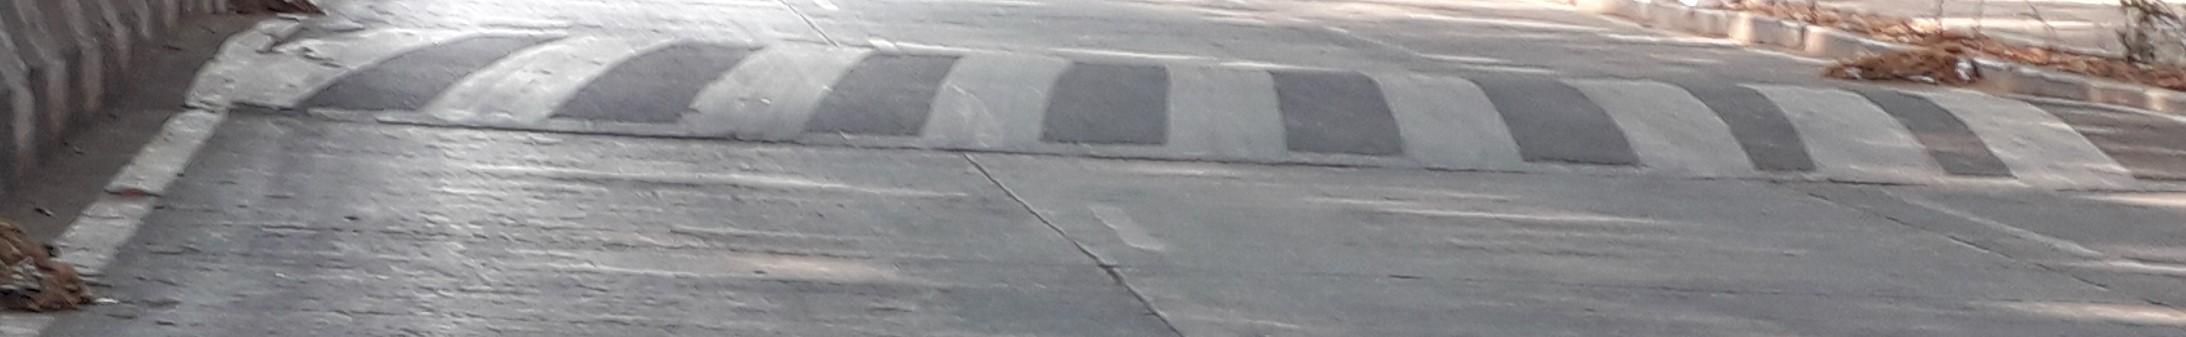speed-bump: (158, 10, 2186, 188)
